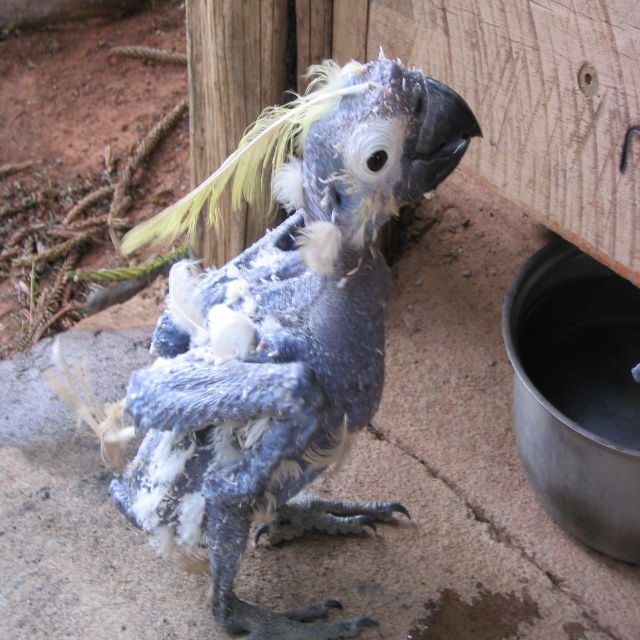Parrot: (109, 45, 482, 639)
